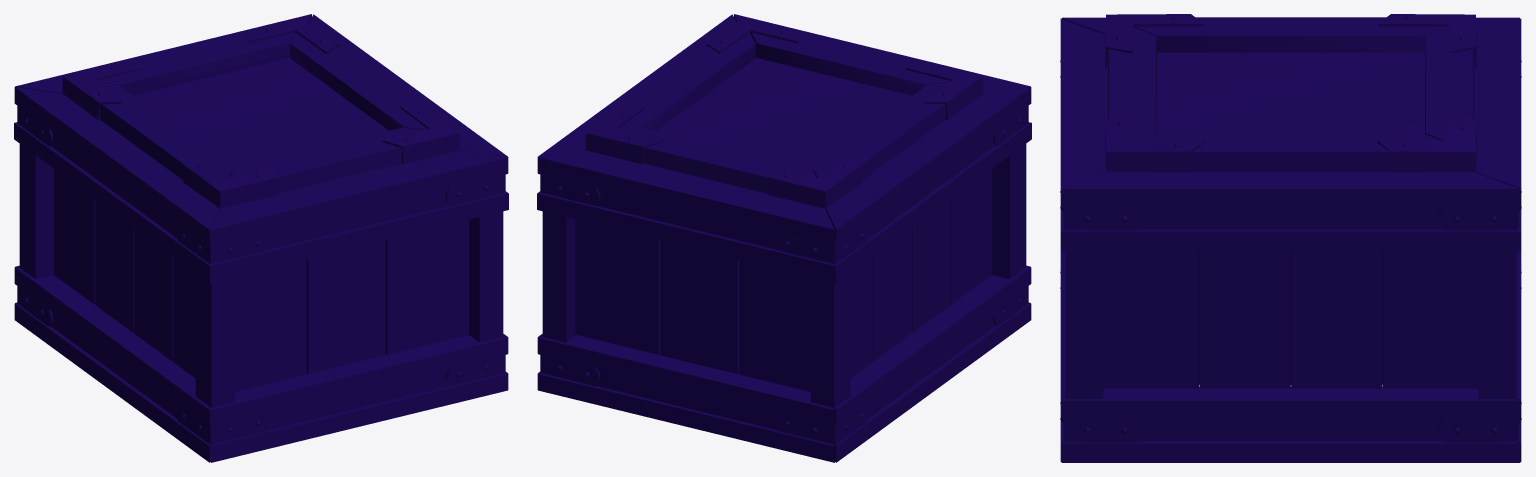
Rendered from chest.fbx.
The picture shows the model from 3 angles, left to right: view 1: azimuth 30°, elevation 25°; view 2: azimuth 150°, elevation 25°; view 3: azimuth 270°, elevation 25°; orthographic projection. The views are drawn at different scales.
Parts seen in each view (by area): view 1: chest; view 2: chest; view 3: chest.
Boxes of the visible parts, x1,y1,x2,y2 form: chest: [14, 14, 508, 462]; chest: [537, 14, 1031, 462]; chest: [1060, 14, 1521, 462].
Size of the model in its own units: 5.55 by 4.48 by 6.3.
